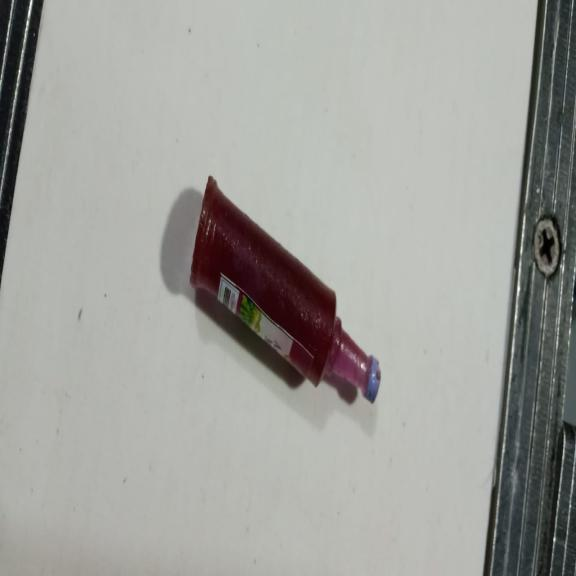Plastik: (190, 177, 382, 404)
